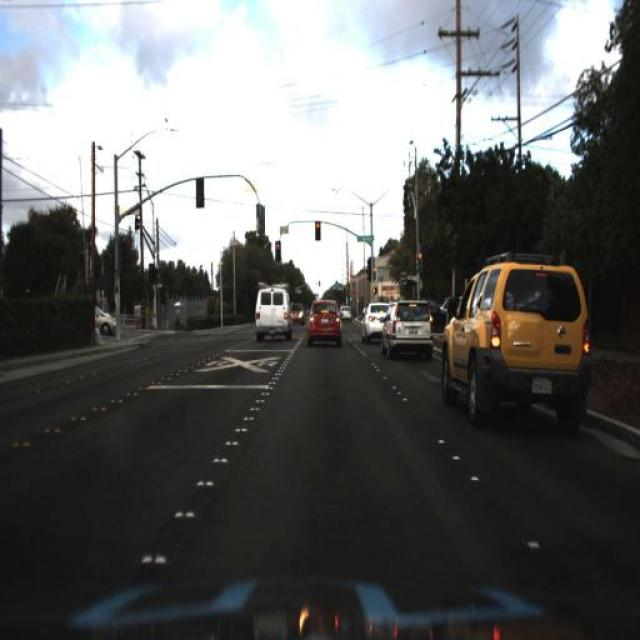car: (439, 246, 602, 449), (378, 296, 438, 360), (247, 280, 295, 342), (298, 294, 351, 350), (359, 292, 382, 342), (89, 302, 122, 334), (290, 295, 309, 330)
trafficLight-Green: (272, 232, 282, 256)
trafficLight-RedLeft: (413, 246, 428, 284), (313, 208, 322, 242), (370, 259, 380, 287)
trafficLight-Yellow: (144, 257, 160, 293)
